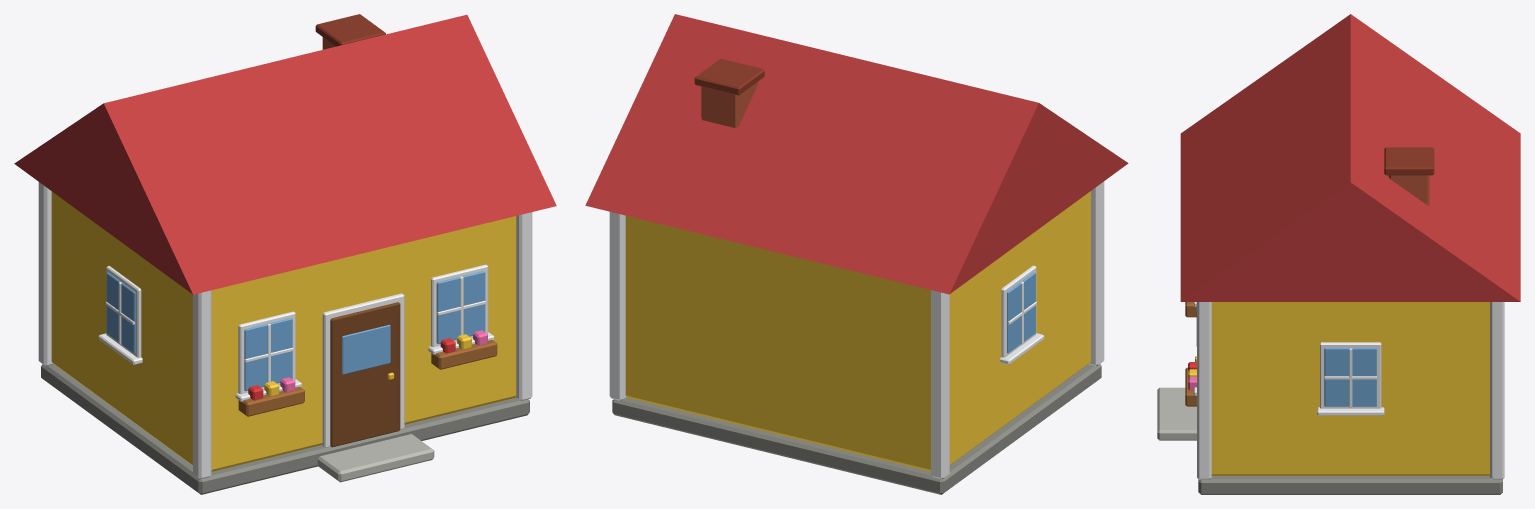
The model's file is YellowHouse.fbx.
The picture shows the model from 3 angles, left to right: view 1: azimuth 30°, elevation 25°; view 2: azimuth 150°, elevation 25°; view 3: azimuth 270°, elevation 25°; orthographic projection. The views are drawn at different scales.
Visible parts, largest first — view 1: YellowHouse; view 2: YellowHouse; view 3: YellowHouse.
Part boxes in pixels (bbox=[...]): YellowHouse: bbox=[14, 14, 556, 494]; YellowHouse: bbox=[585, 14, 1128, 494]; YellowHouse: bbox=[1157, 14, 1520, 494].
Size of the model in its own units: 13.6 by 12.1 by 12.4.
1 material, 1 textured.
